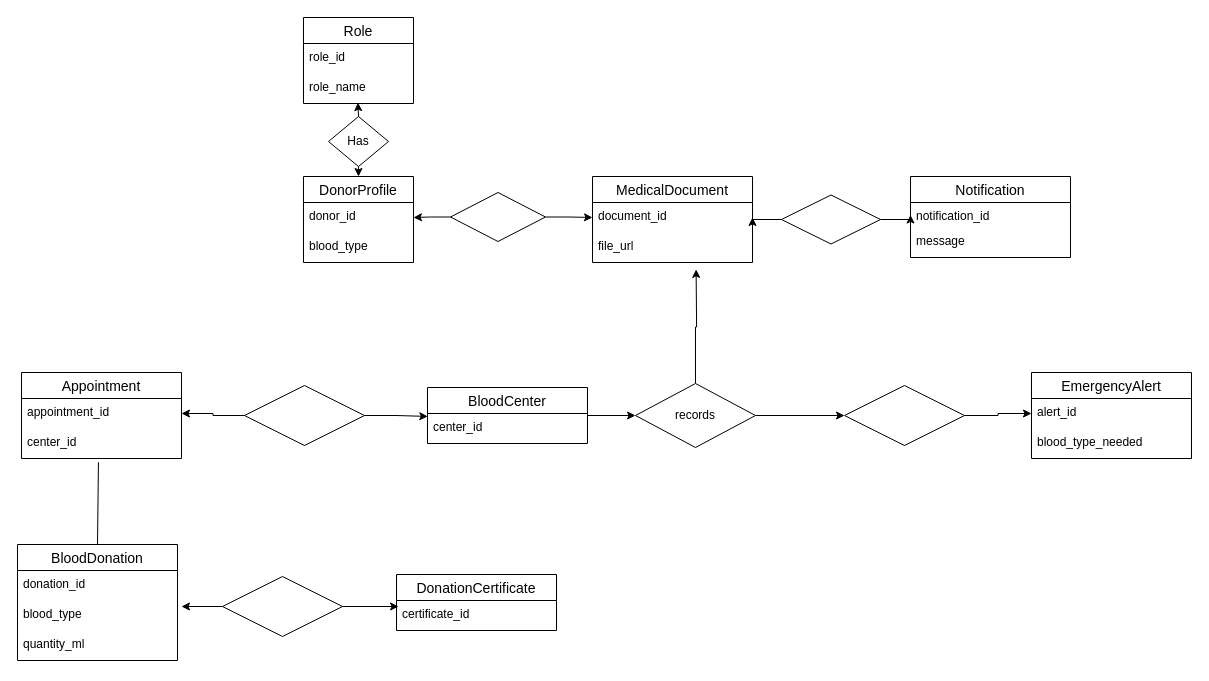
Some shapes in this 1209 by 681 pixel diagram are drawn without their labels. The shapes that lost their labels are listed below. From the top down, each one's centre as x and y in pixels, then its label:
the point at 498,217: uploads
the point at 830,219: sends
the point at 304,415: books
the point at 904,415: alerts
the point at 282,606: involves
